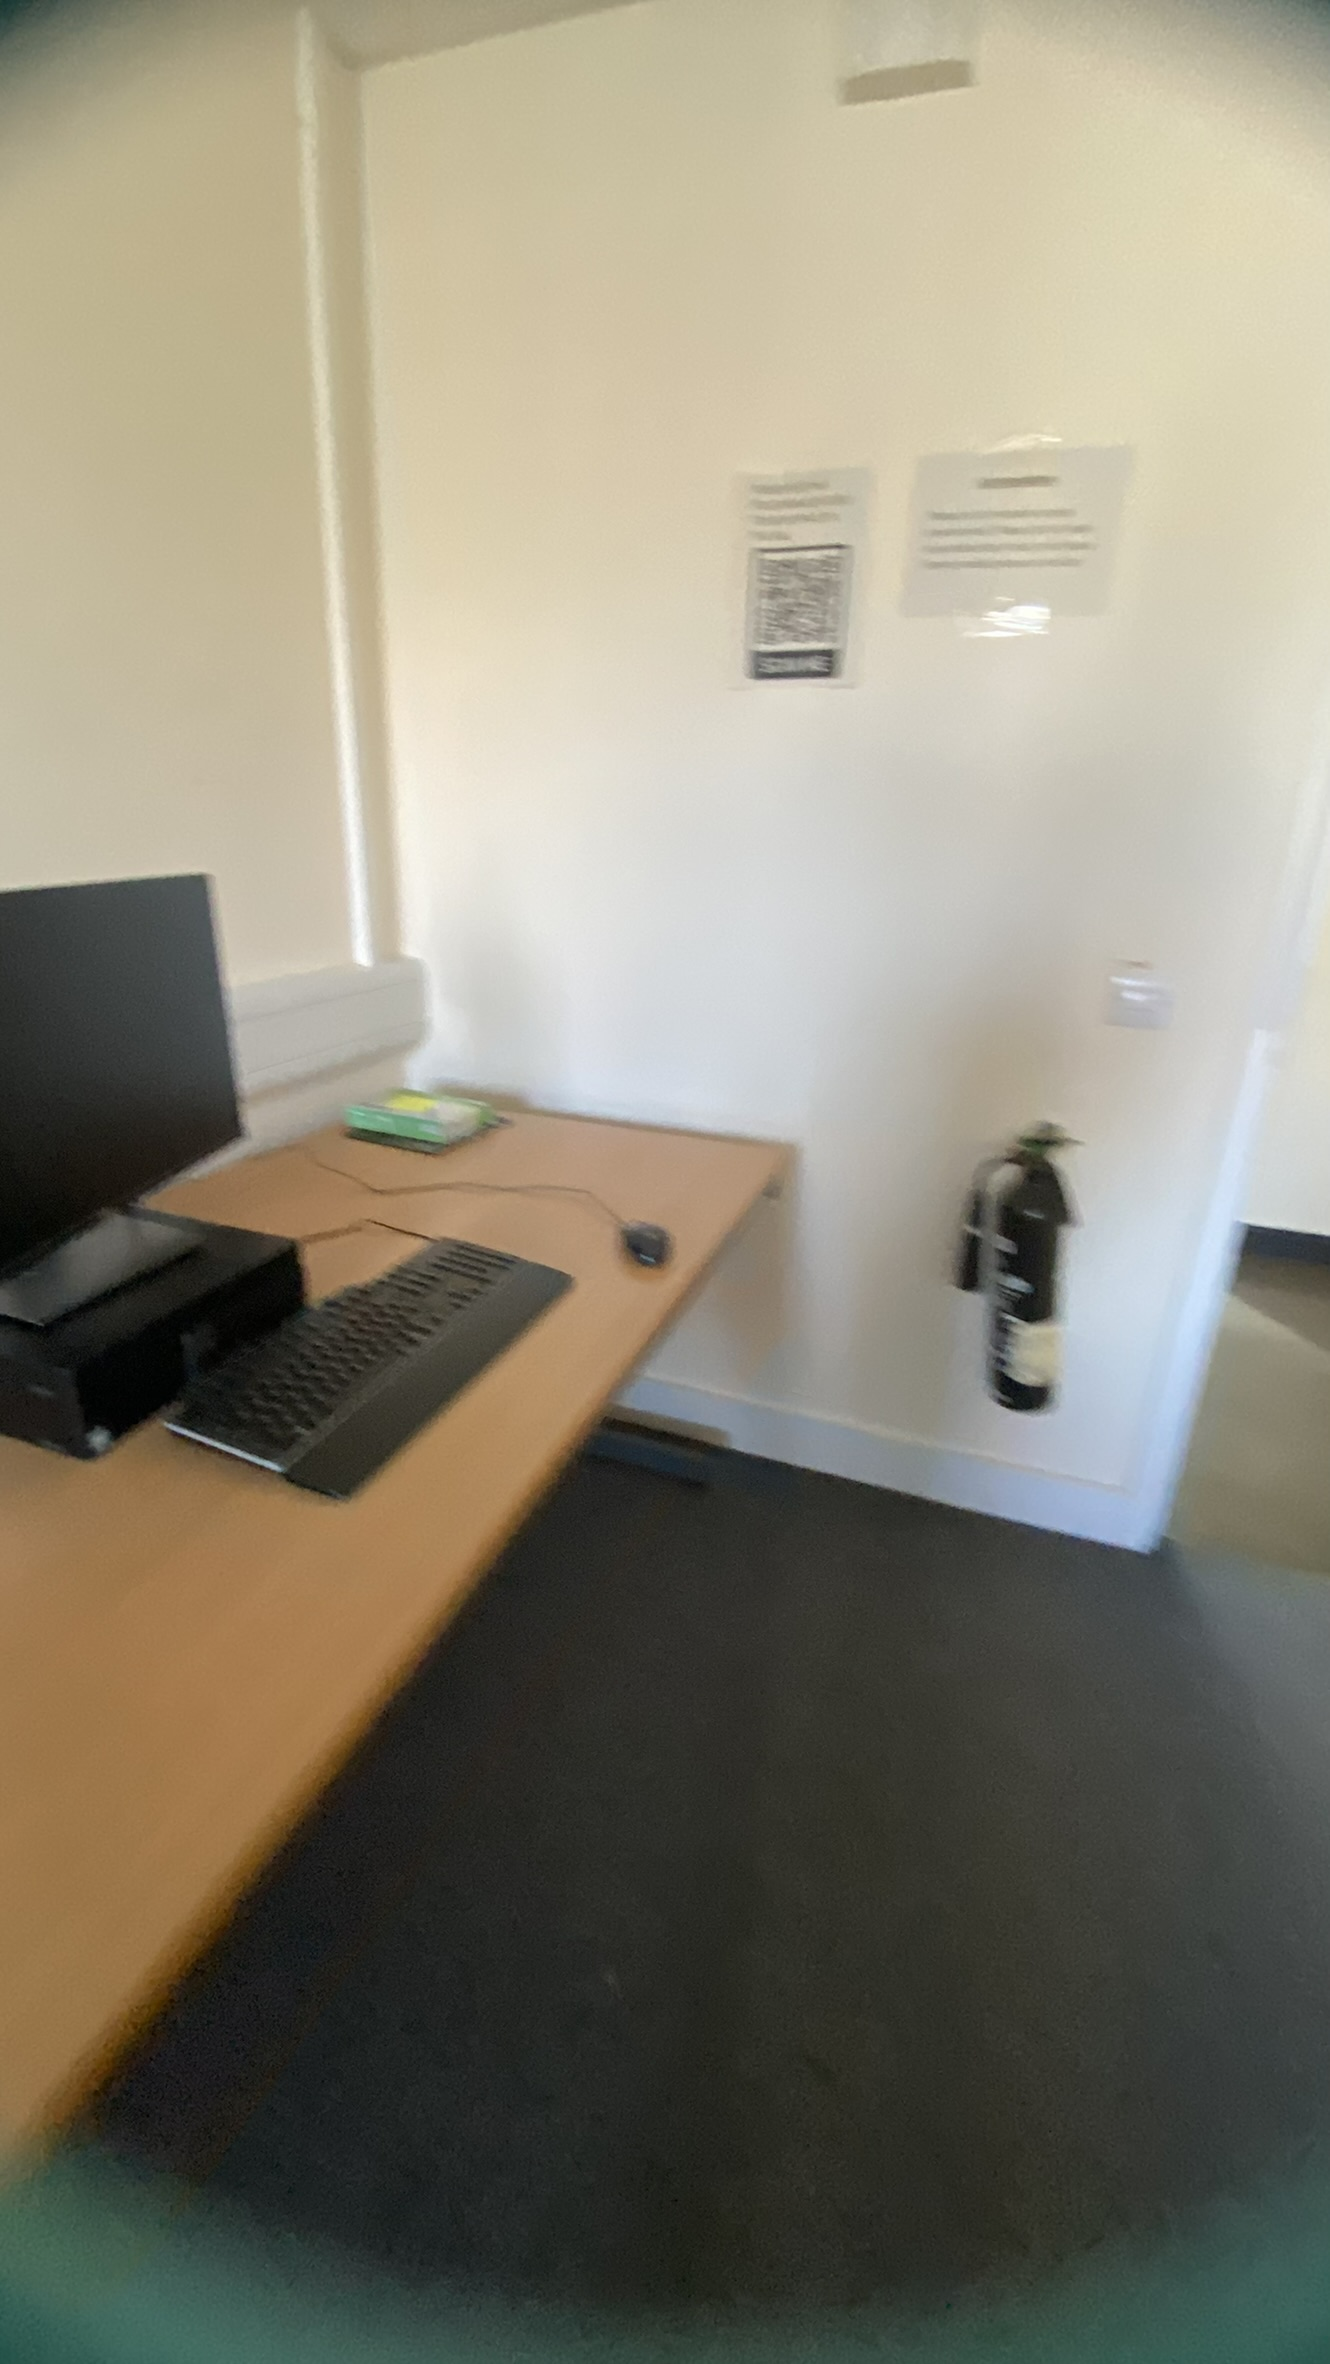fire extinguisher: (879, 1029, 1254, 1546)
table: (16, 981, 809, 2349)
